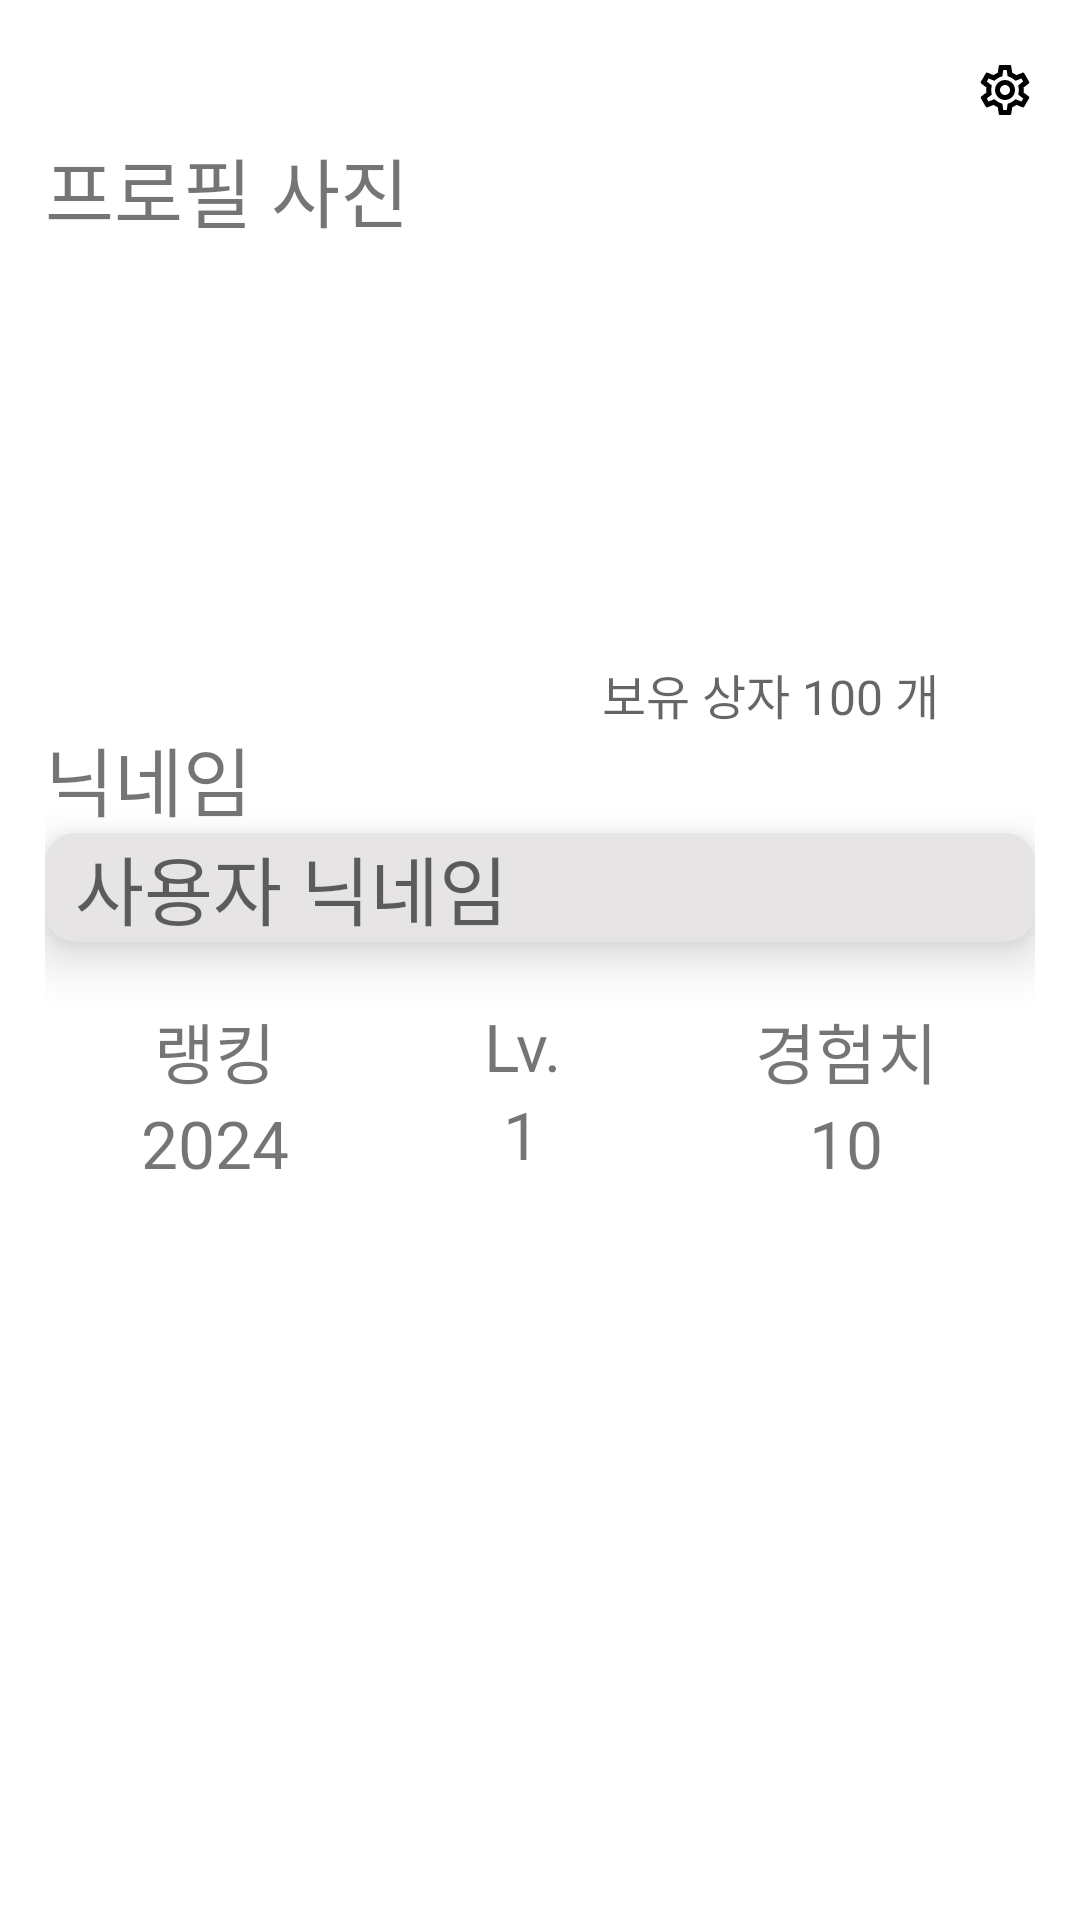

Screen size 1080×1920. Icon name, then its center in pixels as [x,y]:
settings: [1005,90]
